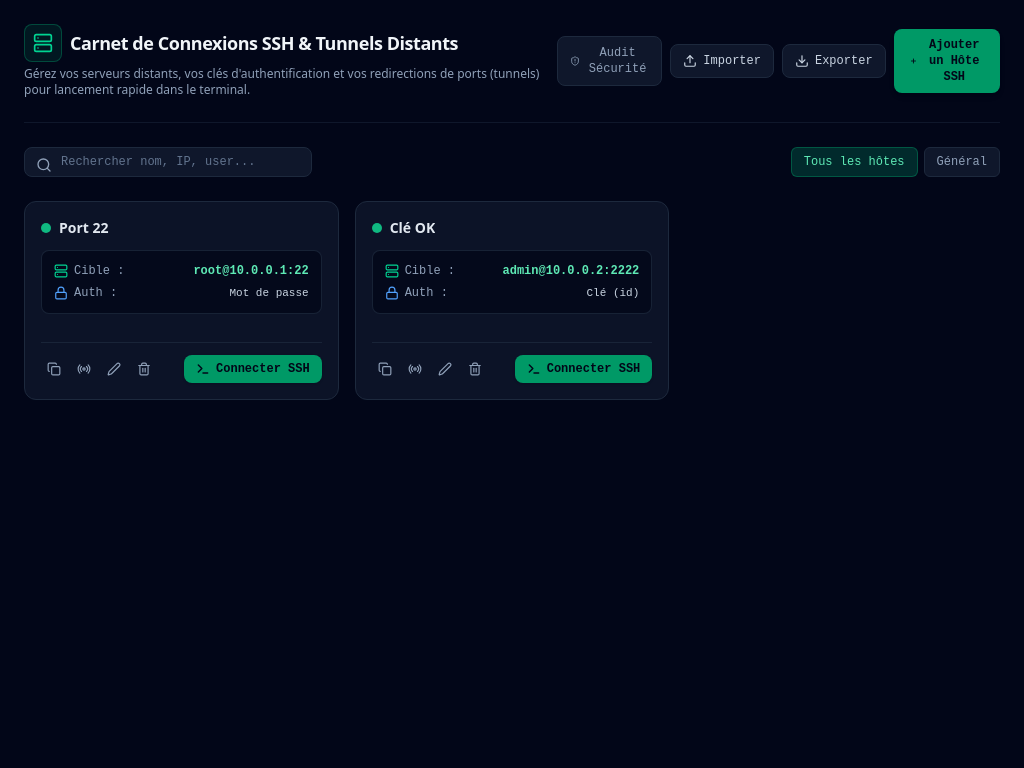
Scenario: SshHostManager Component › affiche l'audit de sécurité des hôtes
This screenshot has width=1024, height=768.
Click the button "Audit Sécurité": click(610, 61) [557,36,662,86]
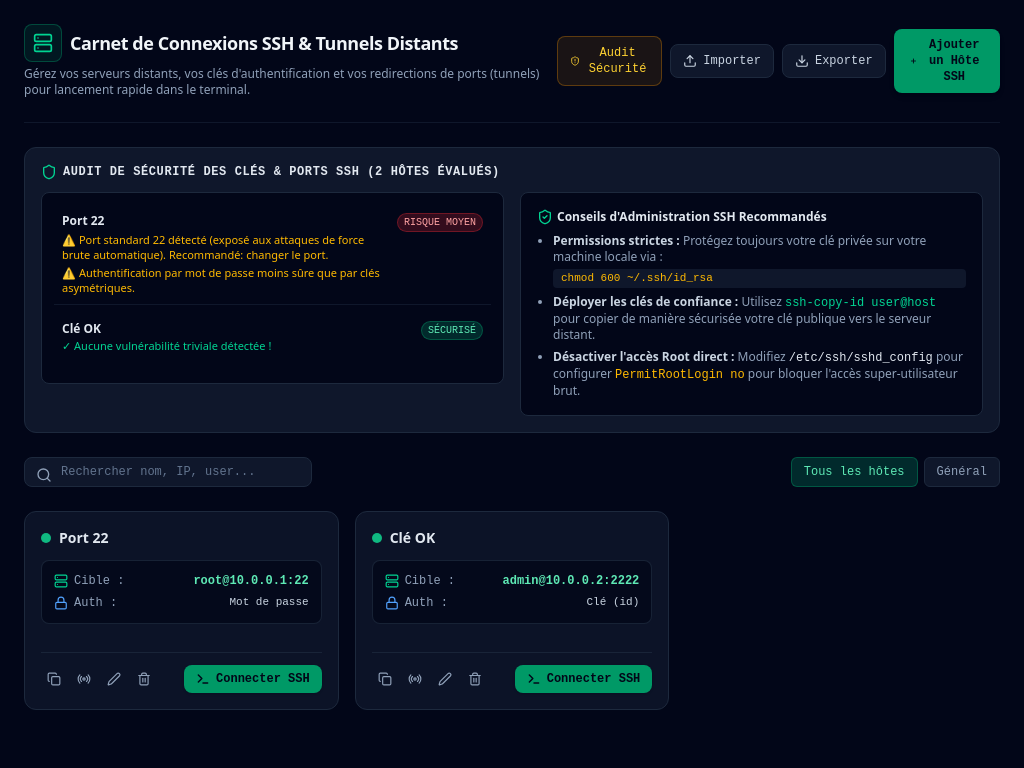
expect the text "Port standard 22 détecté" is shown: met, box [62,232,364,262]
expect the text "Authentification par mot de passe" is shown: met, box [62,265,380,295]
